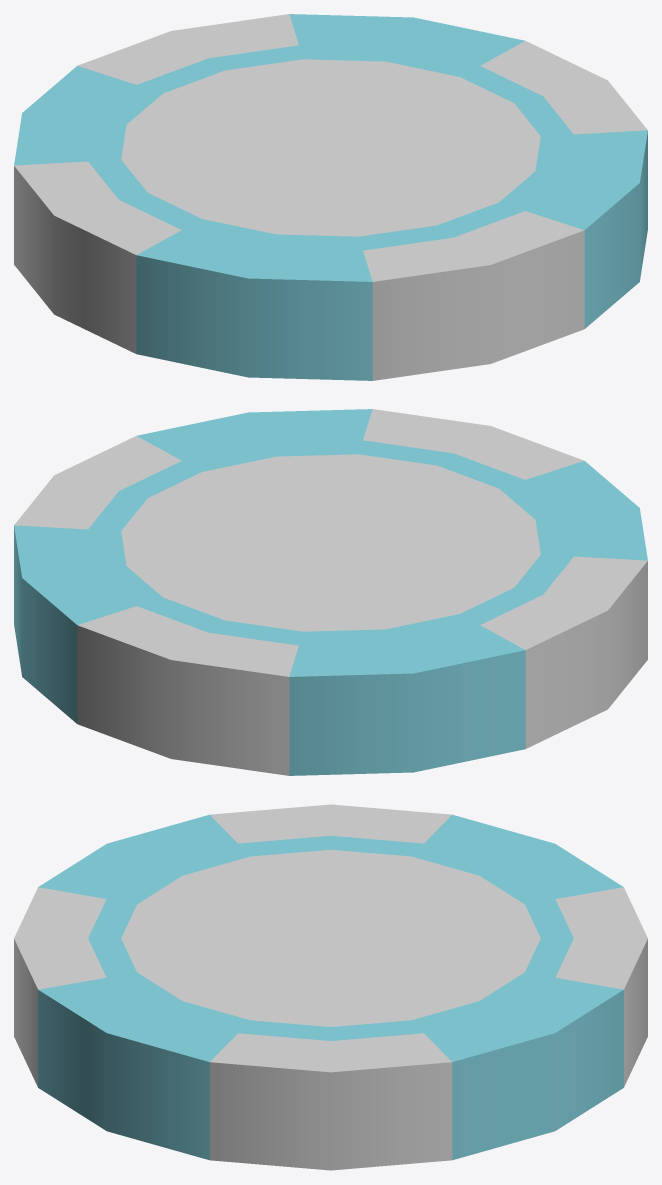
Rendered from baby_blue_chips.glb.
3 views of the same model, one above another, from view 1: azimuth 30°, elevation 25°; view 2: azimuth 150°, elevation 25°; view 3: azimuth 270°, elevation 25° (orthographic).
Parts seen in each view (by area): view 1: Cylinder, Cylinder_Mat_0.001; view 2: Cylinder, Cylinder_Mat_0.001; view 3: Cylinder, Cylinder_Mat_0.001.
Part boxes in pixels (<box>): Cylinder: <box>14,14,647,380</box>; Cylinder_Mat_0.001: <box>14,14,647,380</box>; Cylinder: <box>14,409,647,775</box>; Cylinder_Mat_0.001: <box>14,409,647,775</box>; Cylinder: <box>14,804,647,1170</box>; Cylinder_Mat_0.001: <box>38,814,623,1160</box>.
Size of the model in its own units: 100 by 17.08 by 100.
